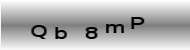8: (84, 26, 99, 40)
P: (130, 16, 145, 30)
Q: (29, 24, 48, 40)
b: (54, 26, 70, 41)
m: (105, 23, 125, 35)
